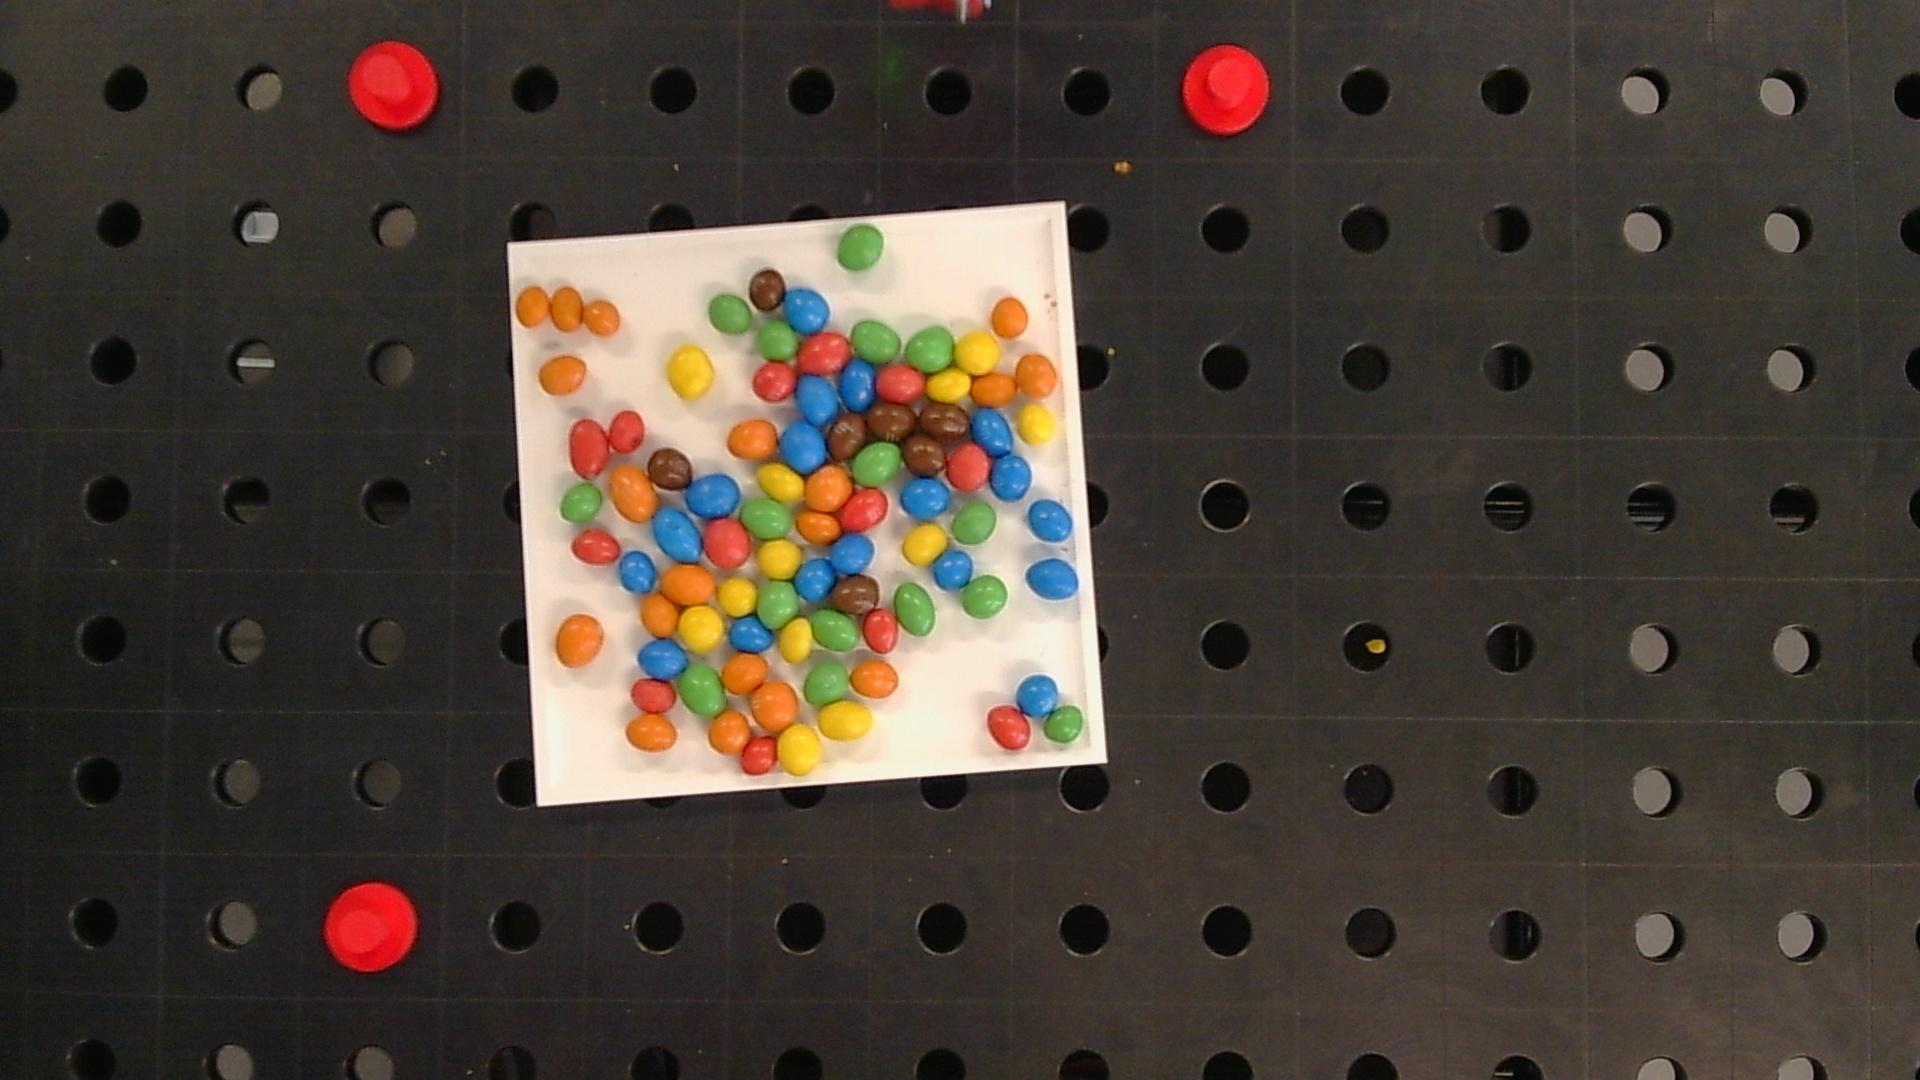blue: (654, 509, 703, 562), (687, 473, 740, 517), (781, 423, 827, 471), (1026, 559, 1079, 600), (796, 376, 839, 425), (901, 477, 949, 518), (786, 289, 829, 334), (1029, 500, 1072, 543), (972, 407, 1011, 455), (990, 454, 1030, 500), (840, 360, 876, 410), (640, 638, 686, 676), (832, 533, 874, 574), (1017, 675, 1059, 715), (795, 558, 835, 600), (729, 615, 773, 651), (934, 551, 973, 589), (618, 551, 655, 592)
brown: (920, 404, 969, 444), (866, 402, 916, 442), (647, 447, 692, 491), (833, 576, 880, 616), (827, 415, 866, 460), (903, 434, 944, 476), (749, 268, 786, 310)
green: (679, 663, 725, 715), (852, 442, 901, 487), (894, 583, 935, 636), (837, 225, 885, 270), (906, 327, 955, 371), (741, 498, 794, 538), (852, 320, 901, 363), (961, 575, 1007, 618), (812, 609, 860, 651), (804, 662, 849, 704), (953, 502, 997, 545), (758, 582, 799, 626), (708, 294, 752, 335), (559, 484, 603, 522), (1043, 705, 1085, 744), (758, 322, 799, 360)
orange: (609, 465, 657, 522), (555, 613, 604, 666), (752, 680, 798, 731), (661, 566, 715, 604), (728, 419, 778, 459), (806, 465, 851, 509), (625, 715, 678, 752), (539, 356, 587, 394), (851, 661, 899, 698), (1015, 355, 1058, 397), (708, 711, 750, 753), (723, 654, 766, 694), (642, 592, 678, 636), (972, 373, 1017, 406), (990, 298, 1027, 336), (551, 286, 583, 330), (516, 286, 550, 326), (799, 512, 841, 543), (585, 301, 620, 335)
red: (568, 419, 608, 477), (703, 520, 750, 566), (798, 334, 851, 373), (986, 705, 1031, 749), (947, 444, 990, 489), (840, 489, 887, 530), (877, 365, 924, 401), (753, 363, 796, 401), (571, 530, 620, 563), (608, 409, 645, 451), (864, 608, 898, 653), (630, 678, 675, 712), (741, 738, 777, 774)
yellow: (667, 345, 715, 398), (816, 702, 873, 740), (778, 724, 820, 774), (679, 607, 724, 651), (902, 524, 947, 564), (955, 332, 1000, 372), (758, 464, 804, 502), (758, 539, 800, 579), (779, 618, 814, 662), (1018, 404, 1055, 443), (717, 578, 757, 615), (926, 369, 971, 401)
